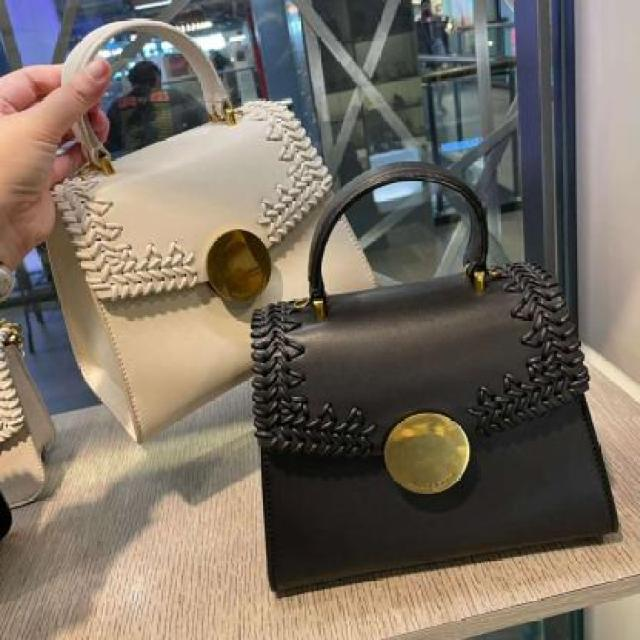Bag: (21, 10, 450, 516), (226, 111, 640, 600)
